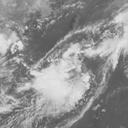cyclone: (20, 42, 93, 119)
